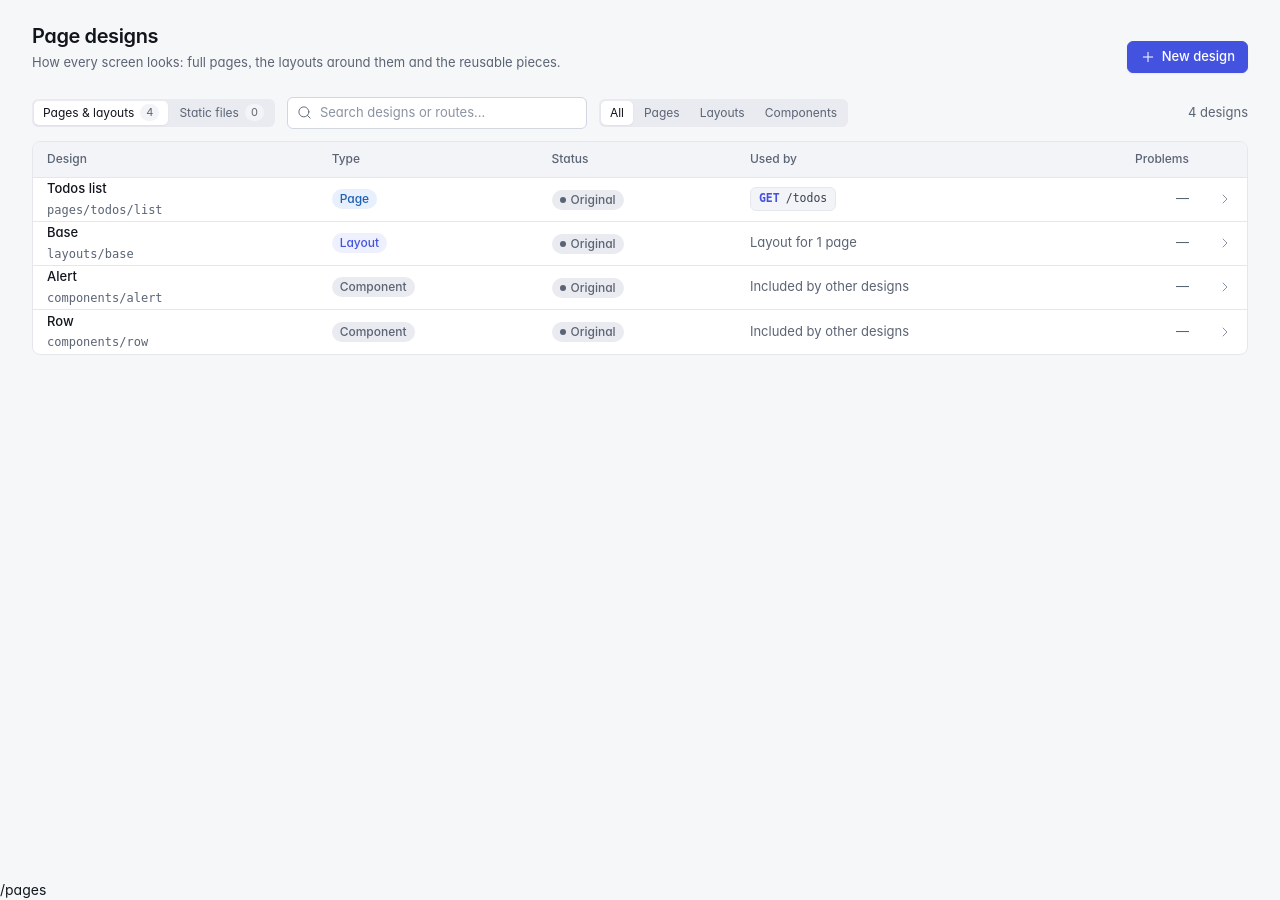
Test: Page designs list › will not create a design that already exists
The width and height of the screenshot is (1280, 900).
Click the button "New design": (1187, 56) [1127,40,1248,72]
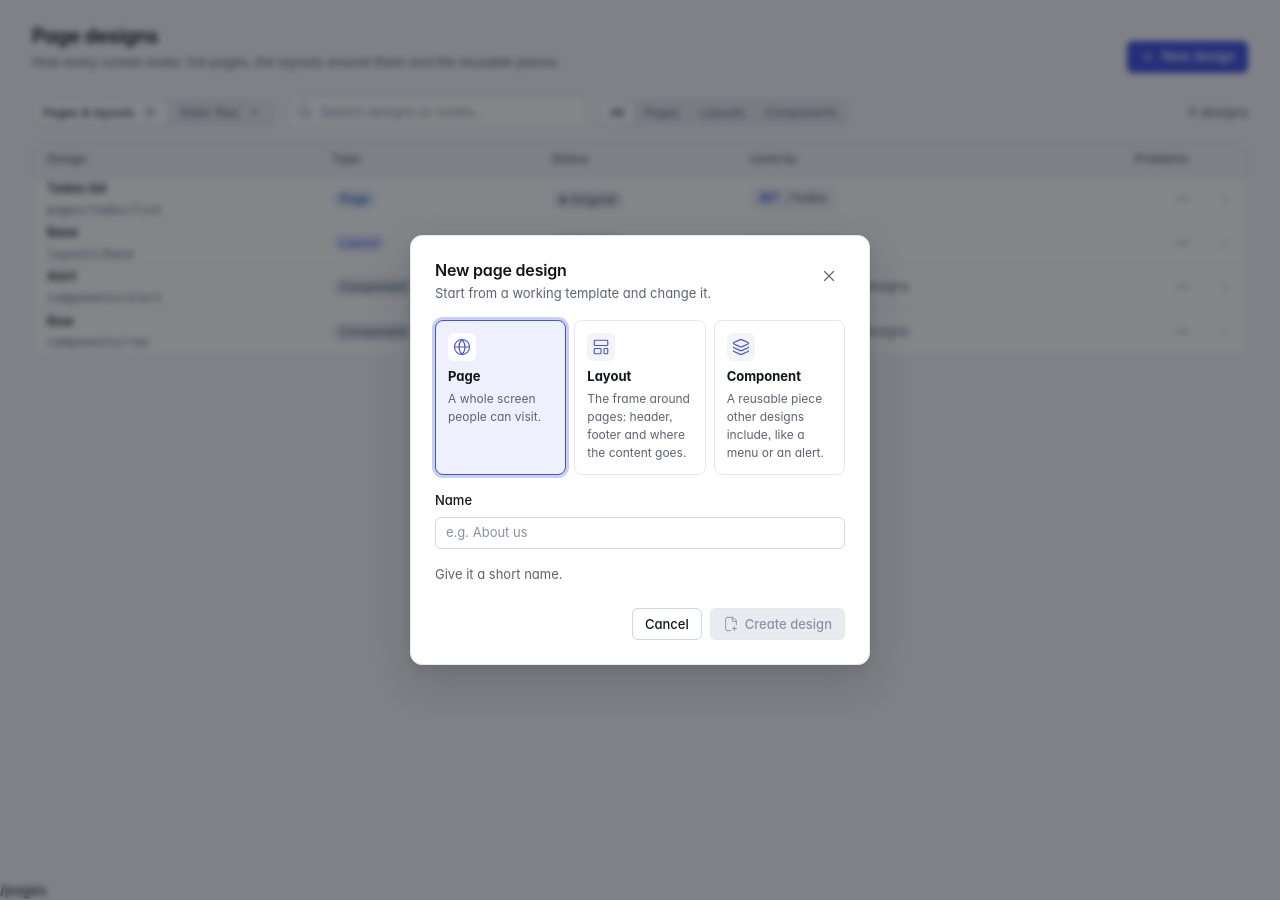
Click the radio button labelled "Component": (779, 398) [714,320,845,475]
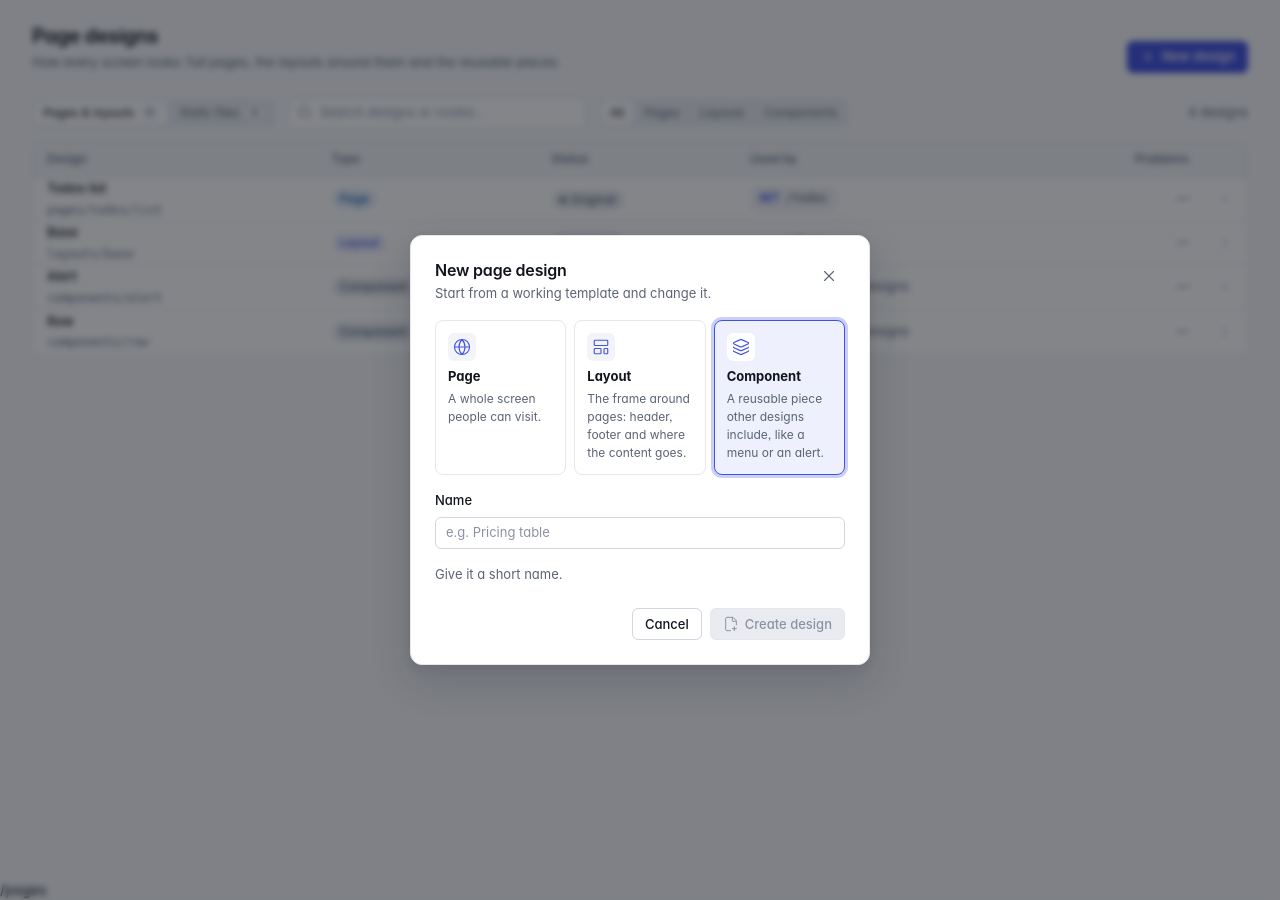
In the field: (640, 533) [435,517,845,549], type "row"
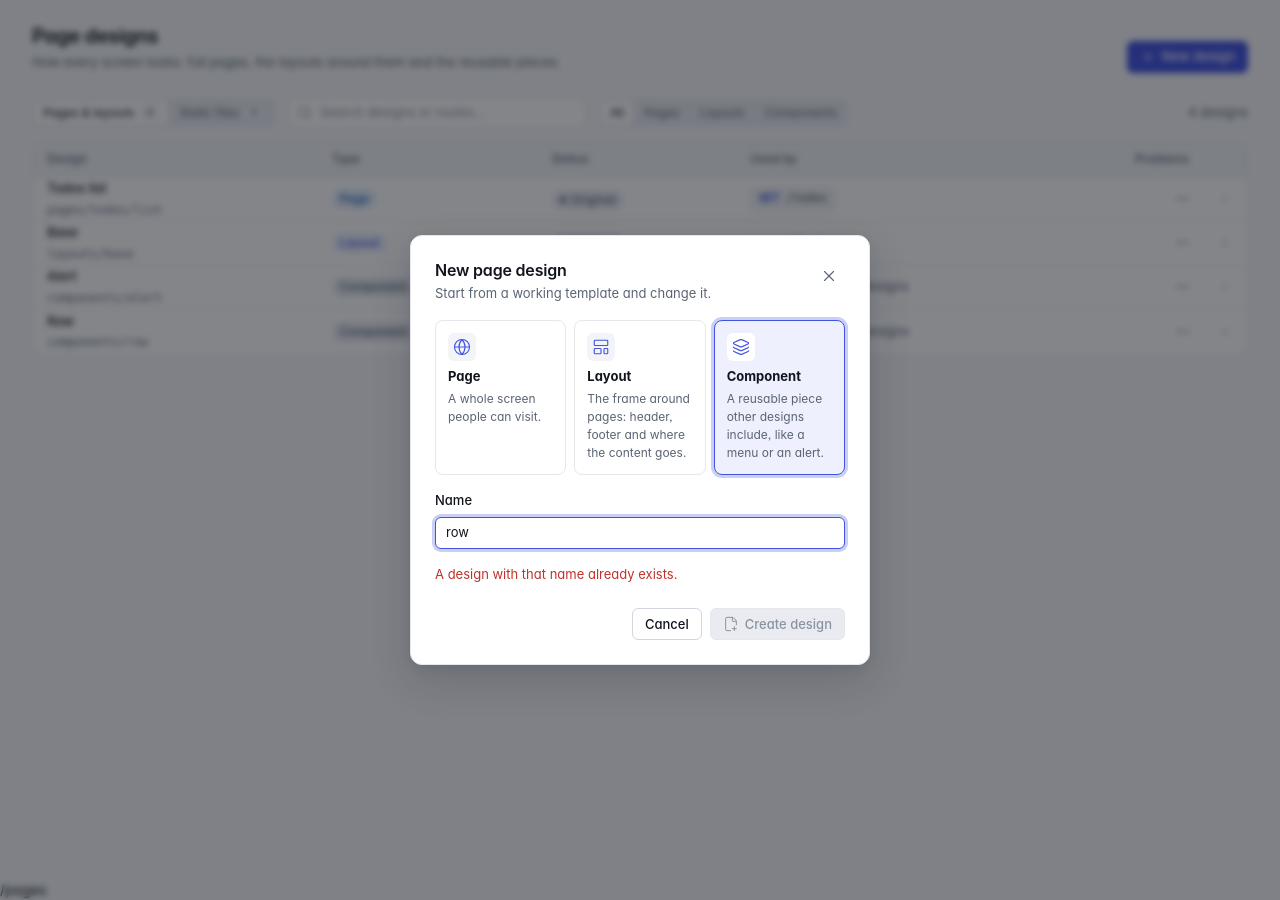
Result: the button "Create design" is disabled at [710,608,845,640]
Result: the message shows "already exists" at [435,566,677,582]
